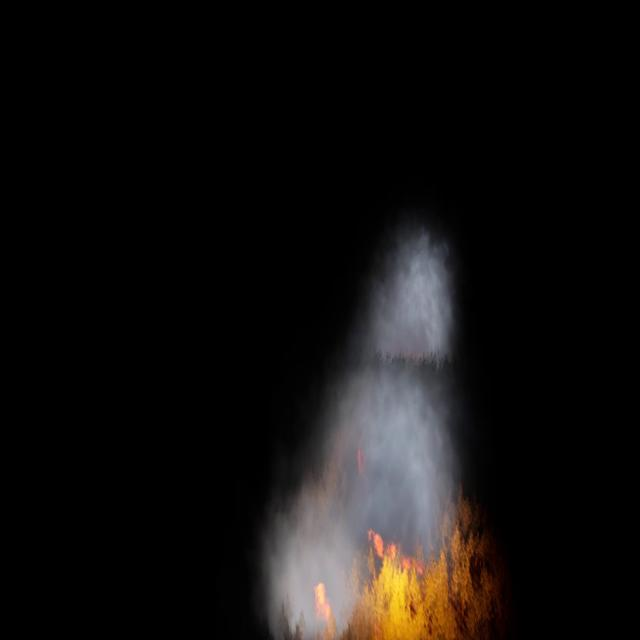fire: (313, 495, 499, 639)
smoke: (259, 224, 462, 639)
